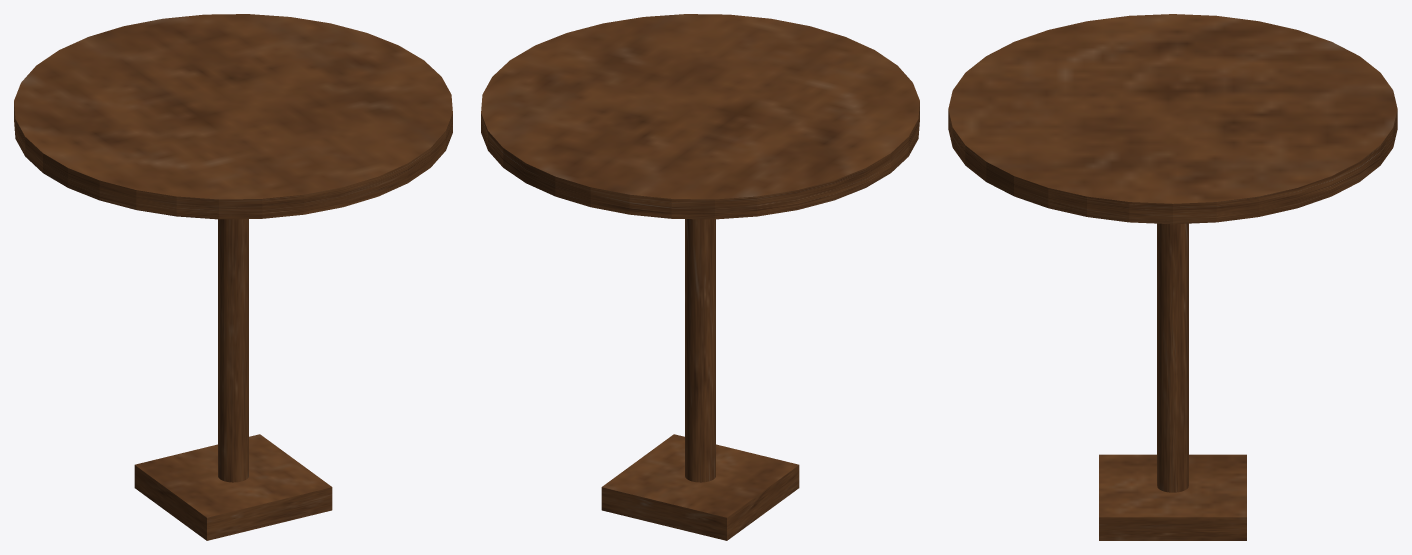
Rendered from PhoneTable.fbx.
The picture shows the model from 3 angles, left to right: view 1: azimuth 30°, elevation 25°; view 2: azimuth 150°, elevation 25°; view 3: azimuth 270°, elevation 25°; orthographic projection. The views are drawn at different scales.
Parts seen in each view (by area): view 1: Cylinder, Cube, Cylinder.001; view 2: Cylinder, Cube, Cylinder.001; view 3: Cylinder, Cube, Cylinder.001.
Boxes of the visible parts, bbox=[...] form: Cylinder: bbox=[14, 14, 452, 219]; Cube: bbox=[134, 434, 332, 540]; Cylinder.001: bbox=[218, 219, 248, 482]; Cylinder: bbox=[481, 14, 919, 219]; Cube: bbox=[601, 434, 799, 540]; Cylinder.001: bbox=[685, 219, 715, 482]; Cylinder: bbox=[948, 14, 1397, 224]; Cube: bbox=[1099, 454, 1246, 540]; Cylinder.001: bbox=[1157, 223, 1188, 492].
Size of the model in its own units: 163 by 161 by 163.
3 materials, 3 textured.
